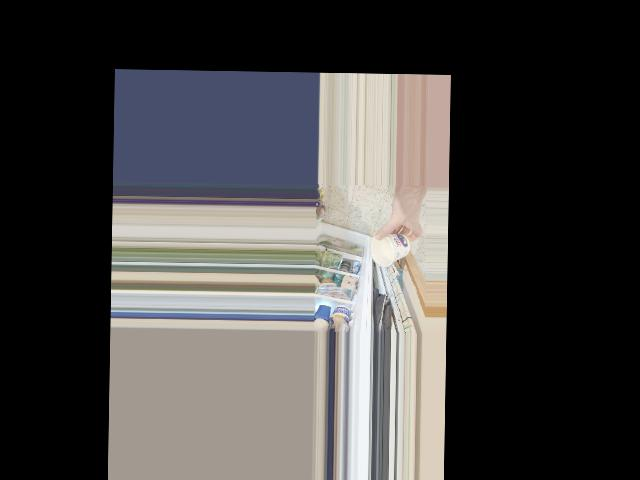cotage: (376, 233, 409, 264)
